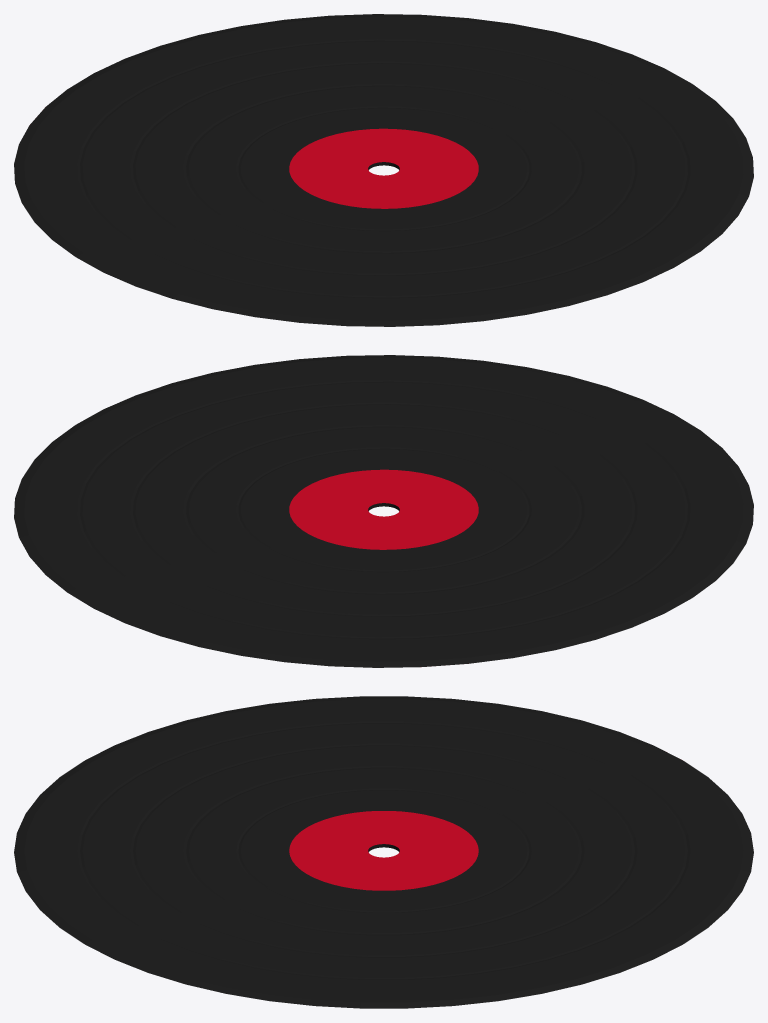
File: disco-vinilo.fbx
3 views of the same model, one above another, from view 1: azimuth 30°, elevation 25°; view 2: azimuth 150°, elevation 25°; view 3: azimuth 270°, elevation 25° (orthographic).
Visible parts, largest first — view 1: disco; view 2: disco; view 3: disco.
Part boxes in pixels (box(x1,y1,x2,y2)): disco: box(14, 14, 753, 326); disco: box(14, 355, 753, 667); disco: box(14, 696, 753, 1008).
Size of the model in its own units: 628 by 3.15 by 629.
Materials: 1 (1 with a texture image).
